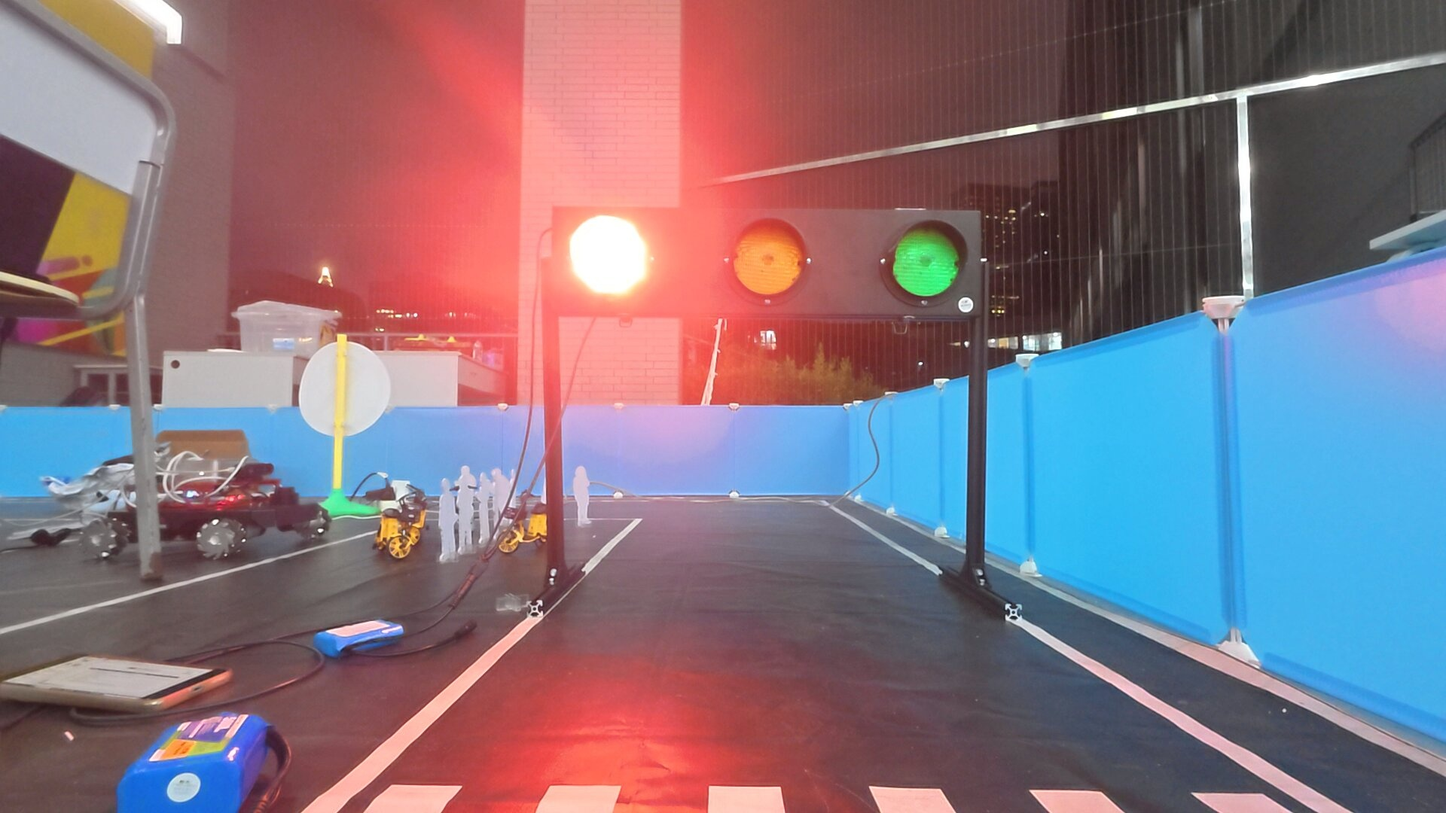stop: (557, 207, 661, 310)
